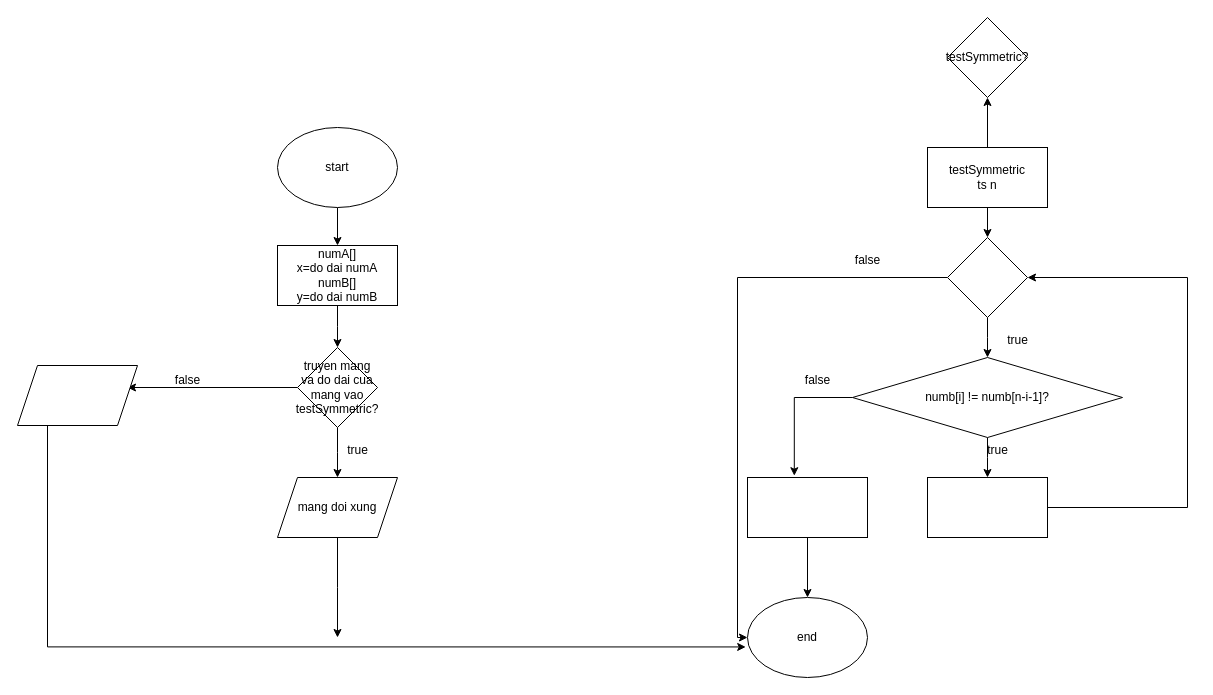
Image size: 1213x695. Some labels were removed from this diagram. Here are the shapes that lost their labels. From the top down, the centre of each, then its label:
At point (987, 277): "i<n?".
At point (77, 395): "mang khong doi xung".
At point (807, 507): "return 1".
At point (987, 507): "return 0".
